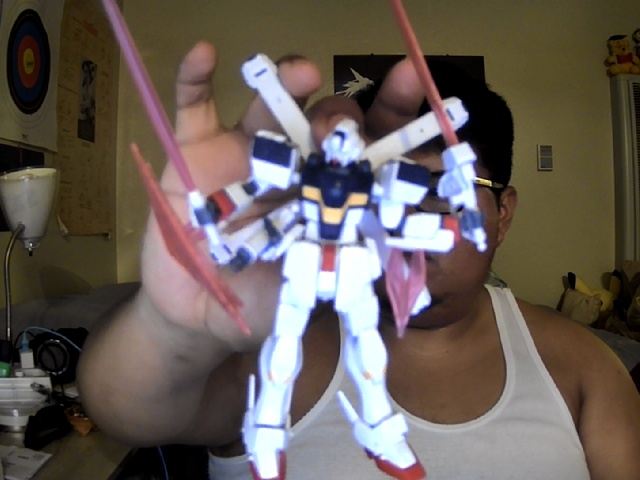Crossbones: (102, 1, 489, 480)
